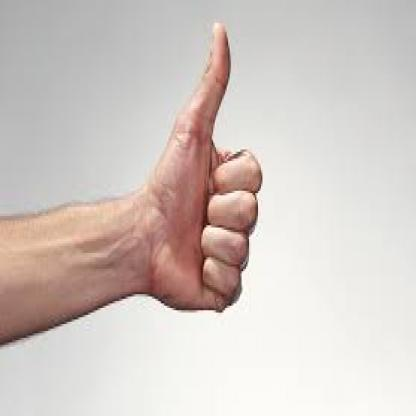thumb_up: (129, 19, 264, 316)
